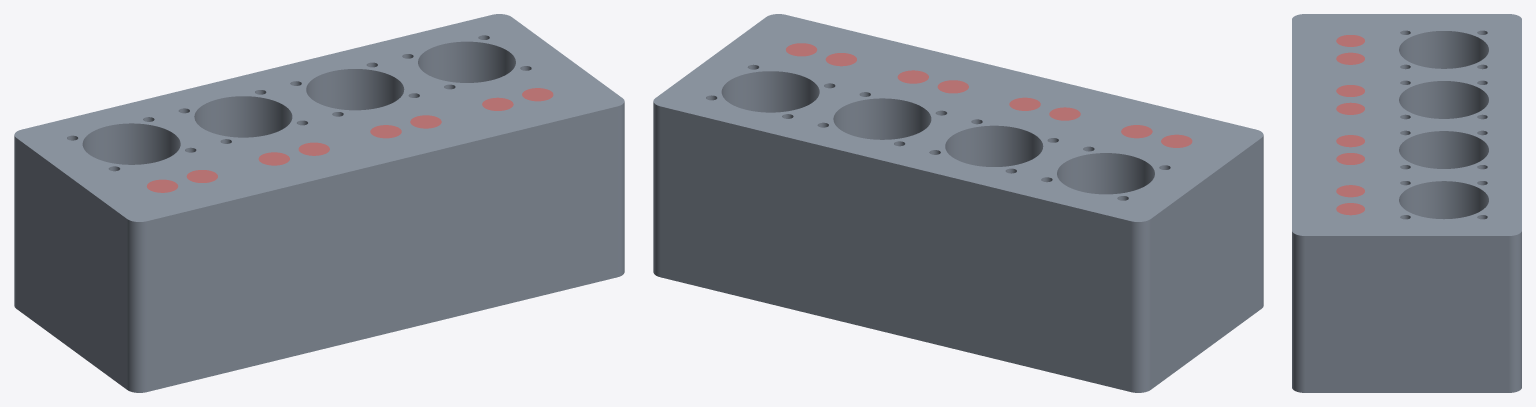
Rendered from step_06.glb.
3 renders of one model, left to right at view 1: azimuth 30°, elevation 25°; view 2: azimuth 150°, elevation 25°; view 3: azimuth 270°, elevation 25°, orthographic. The views are drawn at different scales.
Visible parts, largest first — view 1: part__cylinder block (deck), removed__cylinder block (deck); view 2: part__cylinder block (deck), removed__cylinder block (deck); view 3: part__cylinder block (deck), removed__cylinder block (deck).
Boxes of the visible parts, x1,y1,x2,y2 form: part__cylinder block (deck): (14,14,624,392); removed__cylinder block (deck): (146,88,553,192); part__cylinder block (deck): (653,14,1263,392); removed__cylinder block (deck): (786,43,1192,147); part__cylinder block (deck): (1292,14,1521,392); removed__cylinder block (deck): (1336,35,1364,215).
Bounding box in the file's own units: 546 × 180 × 239.
